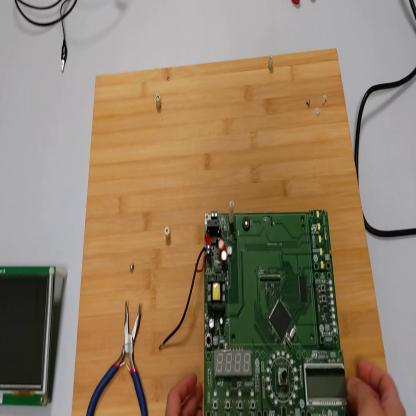hand: (346, 359, 405, 415), (164, 370, 203, 413)
low voltage board: (160, 202, 350, 415)
pliers: (87, 299, 150, 416)
working area: (72, 38, 387, 416)
